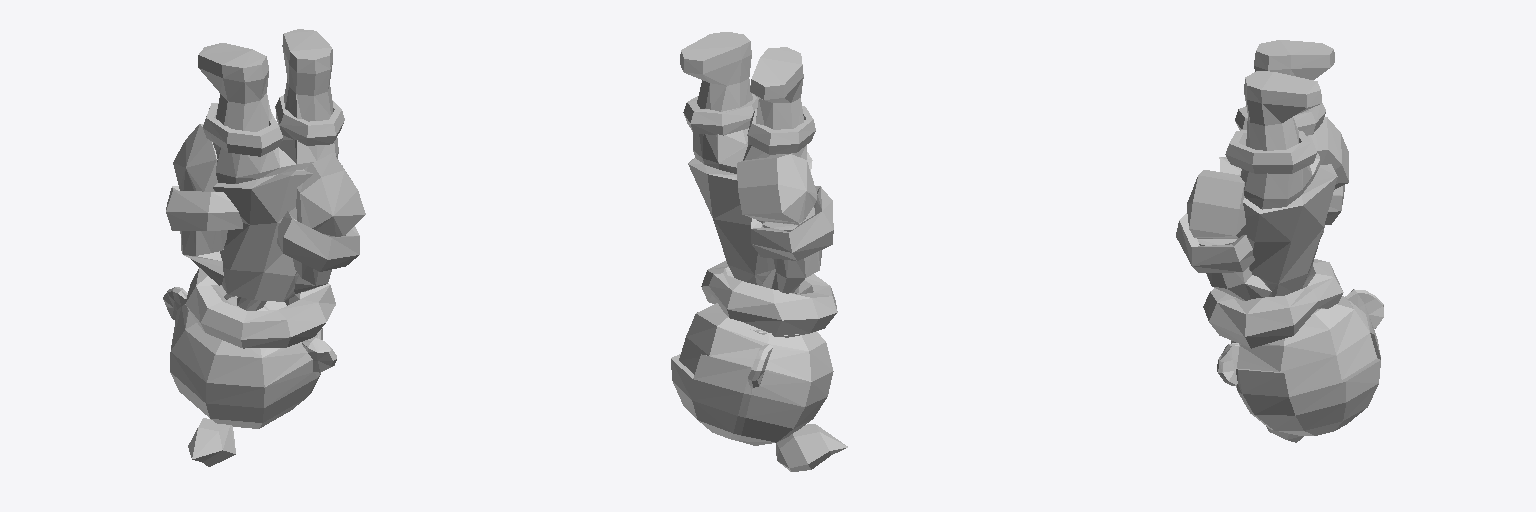
The model's file is eikastanding_000260.obj.
The picture shows the model from 3 angles: view 1: azimuth 30°, elevation 25°; view 2: azimuth 150°, elevation 25°; view 3: azimuth 270°, elevation 25°; orthographic projection.
Visible parts, largest first — view 1: Cylinder; view 2: Cylinder; view 3: Cylinder.
Part boxes in pixels (x1,y1,x2,y2): Cylinder: (163, 29, 365, 466); Cylinder: (671, 32, 847, 471); Cylinder: (1176, 40, 1383, 442).
Bounding box in the file's own units: 22.73 × 56.4 × 26.34.